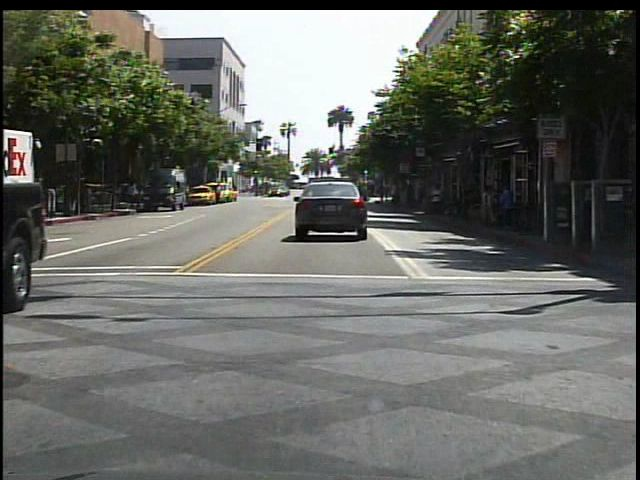person: (428, 181, 447, 220)
